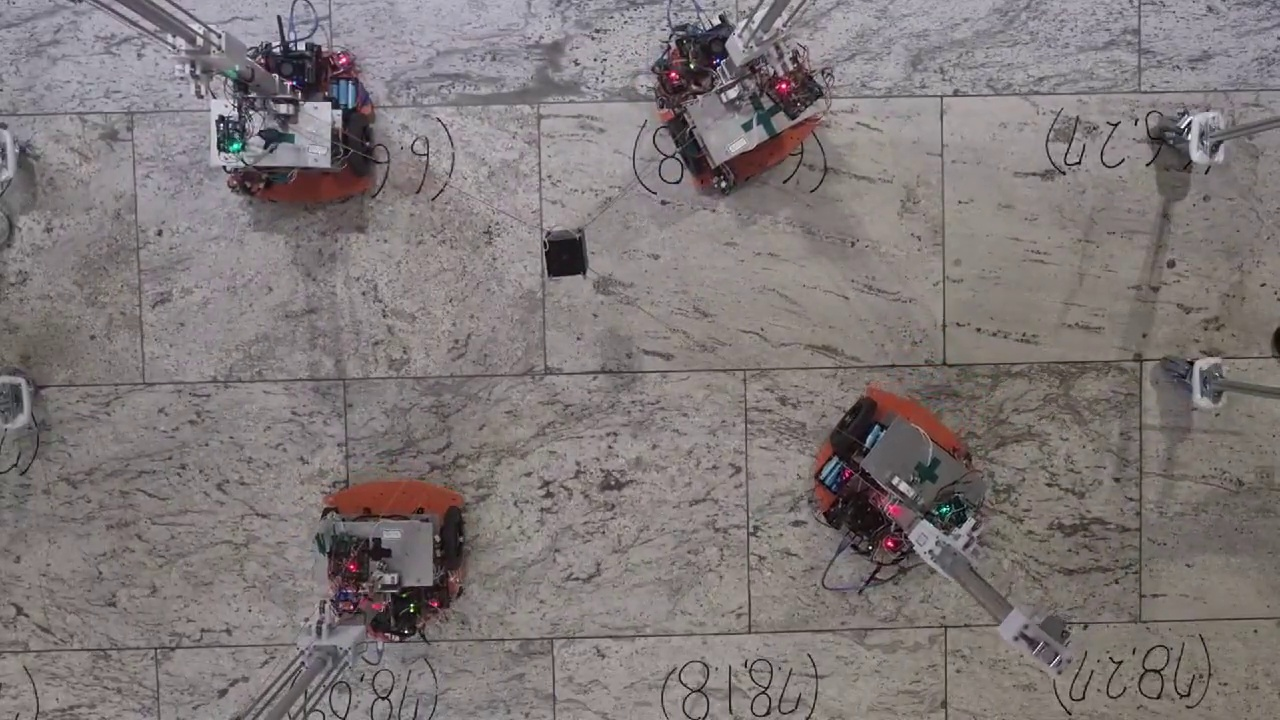e0: (543, 228, 590, 278)
r1: (829, 397, 982, 534)
r2: (666, 64, 818, 177)
r3: (218, 107, 374, 178)
r4: (316, 506, 466, 570)
y_+_axis_vector: (544, 366, 944, 374)
y_-_axis_vector: (144, 374, 545, 384)
